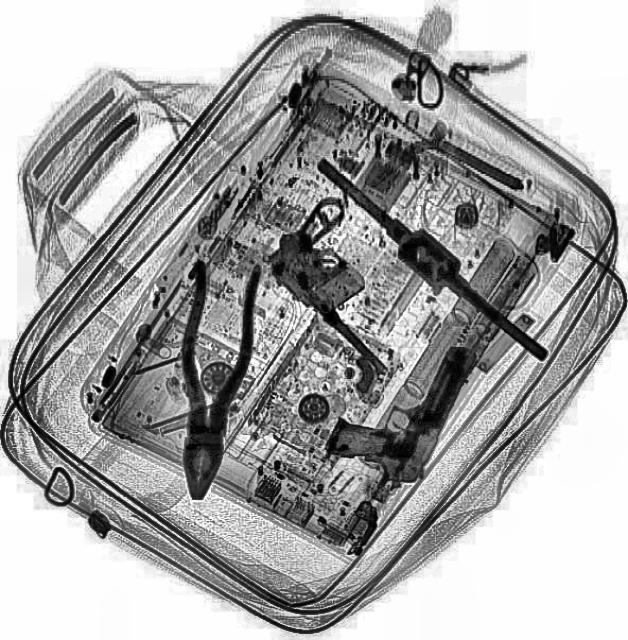Gun: (252, 188, 452, 380), (320, 314, 478, 492)
Pliers: (164, 256, 262, 502)
